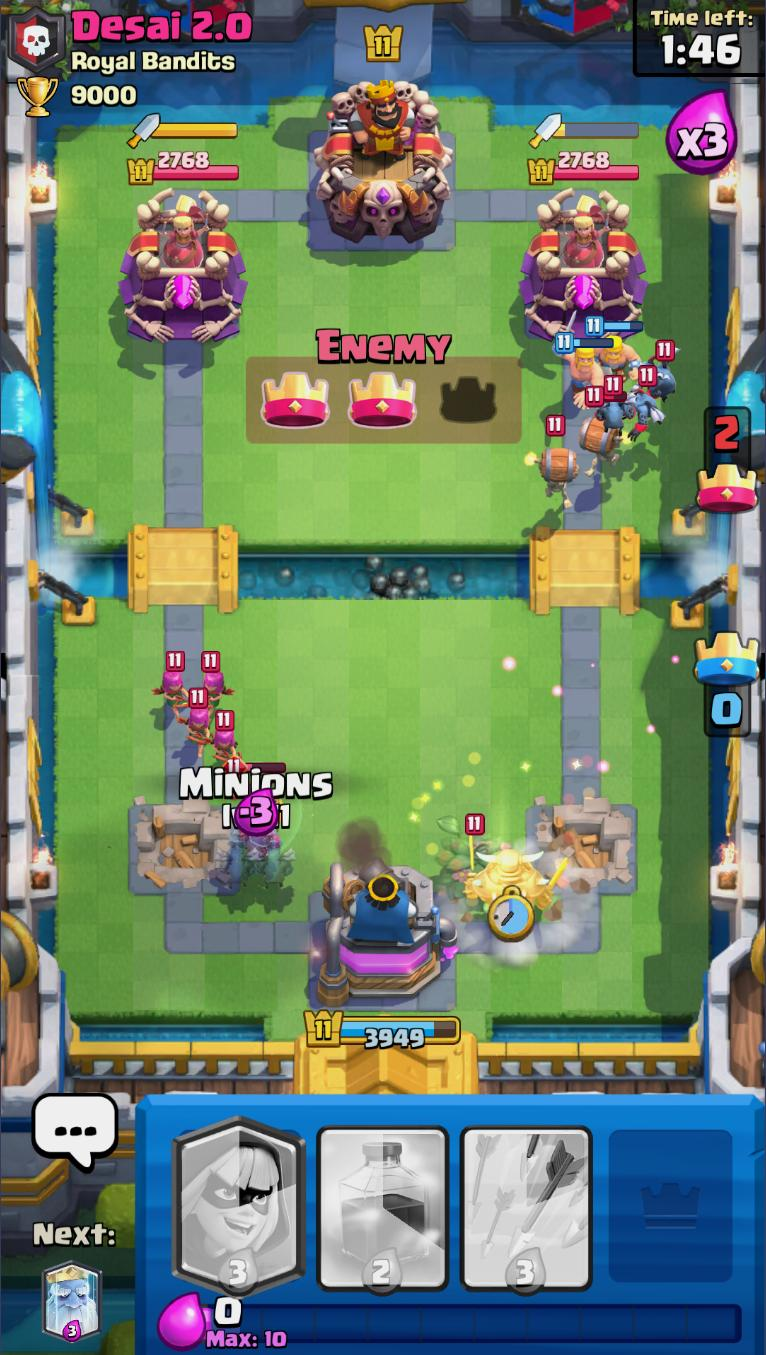Archer: (175, 685, 218, 759), (149, 650, 194, 715), (208, 709, 246, 767), (198, 649, 236, 705)
ArrowDeck: (455, 1096, 599, 1296)
BanditDeck: (165, 1096, 312, 1294)
Bush: (429, 811, 506, 904)
Daggers: (526, 109, 641, 150), (126, 111, 239, 148)
Elixir: (204, 1295, 745, 1350)
Empty: (596, 1096, 745, 1295)
EnemyTower: (516, 186, 650, 345), (118, 186, 247, 346)
KingTower: (311, 76, 455, 245)
Minion: (623, 365, 668, 441), (640, 339, 683, 403), (593, 373, 635, 436)
MyBarbarian: (555, 330, 614, 410), (584, 315, 644, 374)
MyKingHP: (301, 1005, 463, 1051)
MyKingTower: (311, 860, 445, 1009)
MyPekka: (466, 834, 571, 924)
MyPrincessTowerBrocken: (520, 795, 643, 900), (123, 796, 245, 898)
RageDeck: (310, 1096, 456, 1296)
RoyaleGhostNext: (41, 1260, 103, 1344)
TowerPrincessHP: (124, 149, 241, 186), (525, 149, 640, 185)
WallBreakers: (523, 415, 581, 503), (576, 385, 622, 479)
